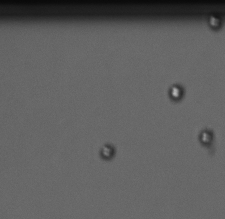Living Cell: (98, 144, 116, 160), (168, 84, 184, 101), (198, 129, 214, 146), (207, 13, 221, 30)
